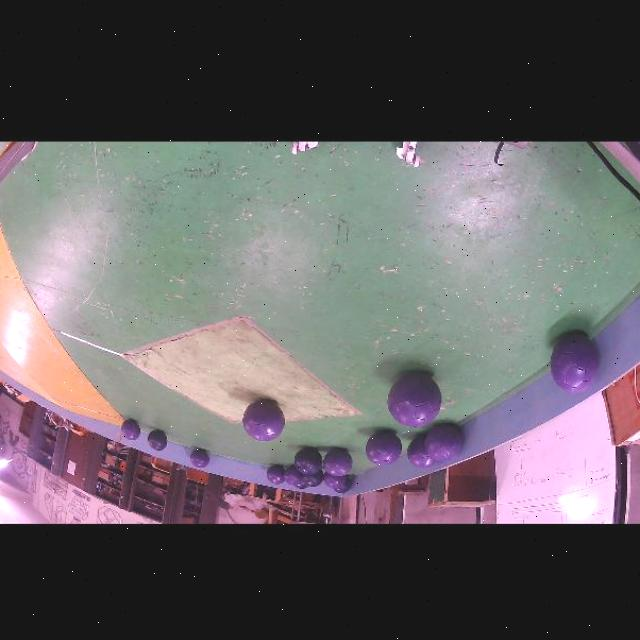B: (295, 447, 323, 475), (148, 430, 167, 451), (303, 469, 324, 487), (336, 477, 353, 493), (295, 483, 307, 489)
P: (388, 372, 441, 427), (550, 334, 599, 392), (242, 399, 284, 441), (425, 424, 462, 461), (365, 431, 401, 465), (407, 435, 436, 468), (323, 448, 352, 476), (121, 419, 141, 440), (190, 448, 210, 468), (284, 465, 303, 485), (323, 473, 347, 488), (267, 464, 284, 484)
